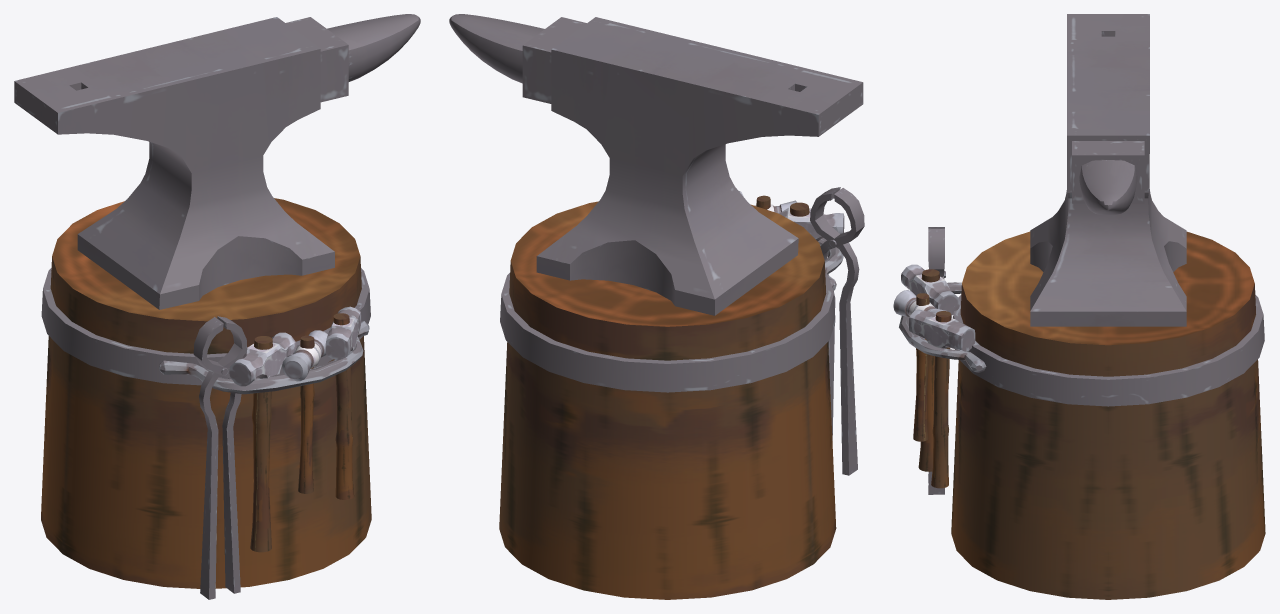
The model's file is anvil_log.glb.
3 views of the same model, side by side, from view 1: azimuth 30°, elevation 25°; view 2: azimuth 150°, elevation 25°; view 3: azimuth 270°, elevation 25° (orthographic). The views are drawn at different scales.
Parts seen in each view (by area): view 1: Anvil_Log; view 2: Anvil_Log; view 3: Anvil_Log.
Part boxes in pixels (<box>): Anvil_Log: <box>14,14,420,599</box>; Anvil_Log: <box>449,14,864,599</box>; Anvil_Log: <box>893,14,1265,599</box>.
Bounding box in the file's own units: 0.9293 × 1.07 × 0.8214.
3 materials, 3 textured.
